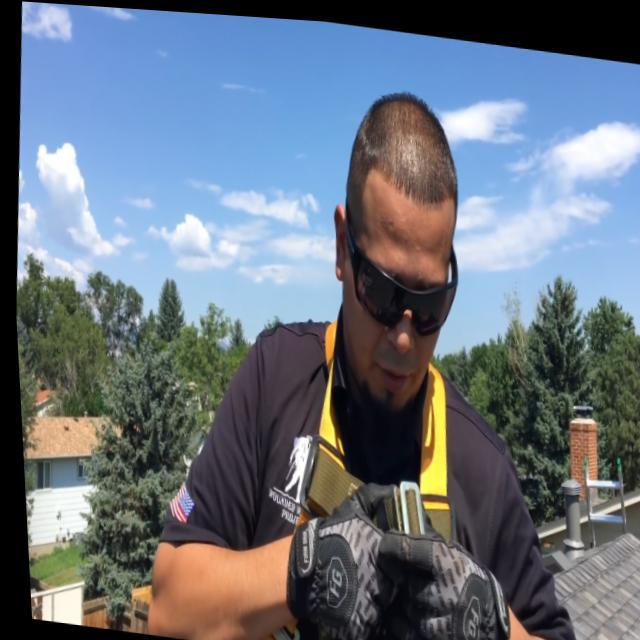belt: (220, 289, 487, 640)
